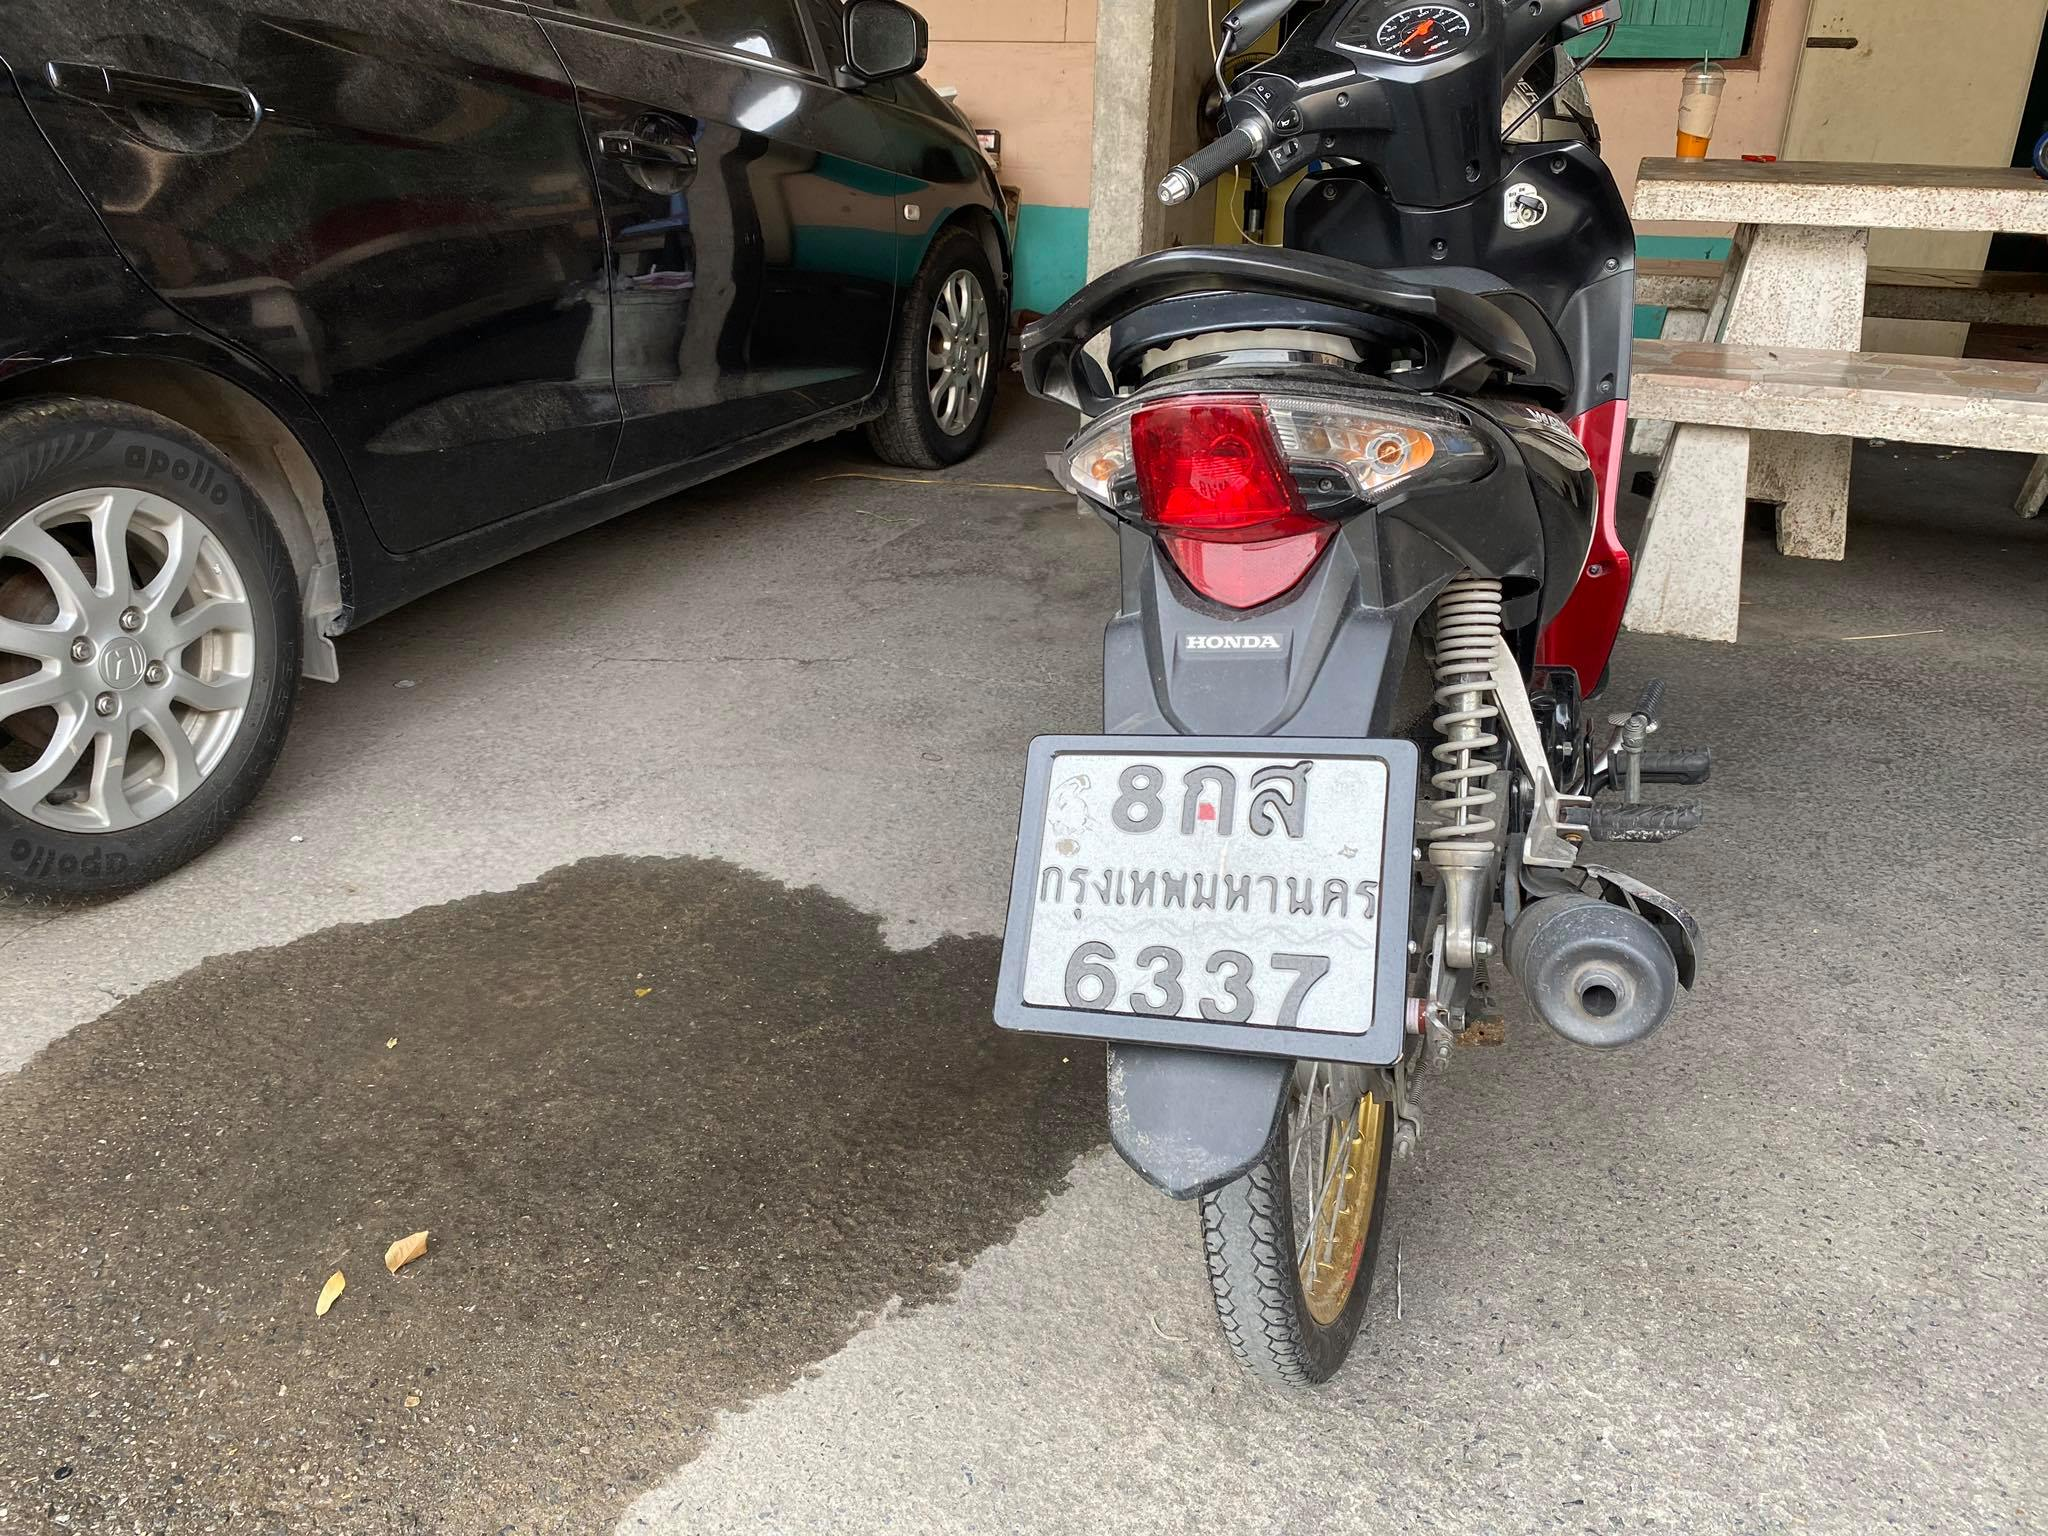line1: (1111, 747, 1317, 845)
line2: (1026, 857, 1384, 931)
line3: (1059, 933, 1338, 1026)
